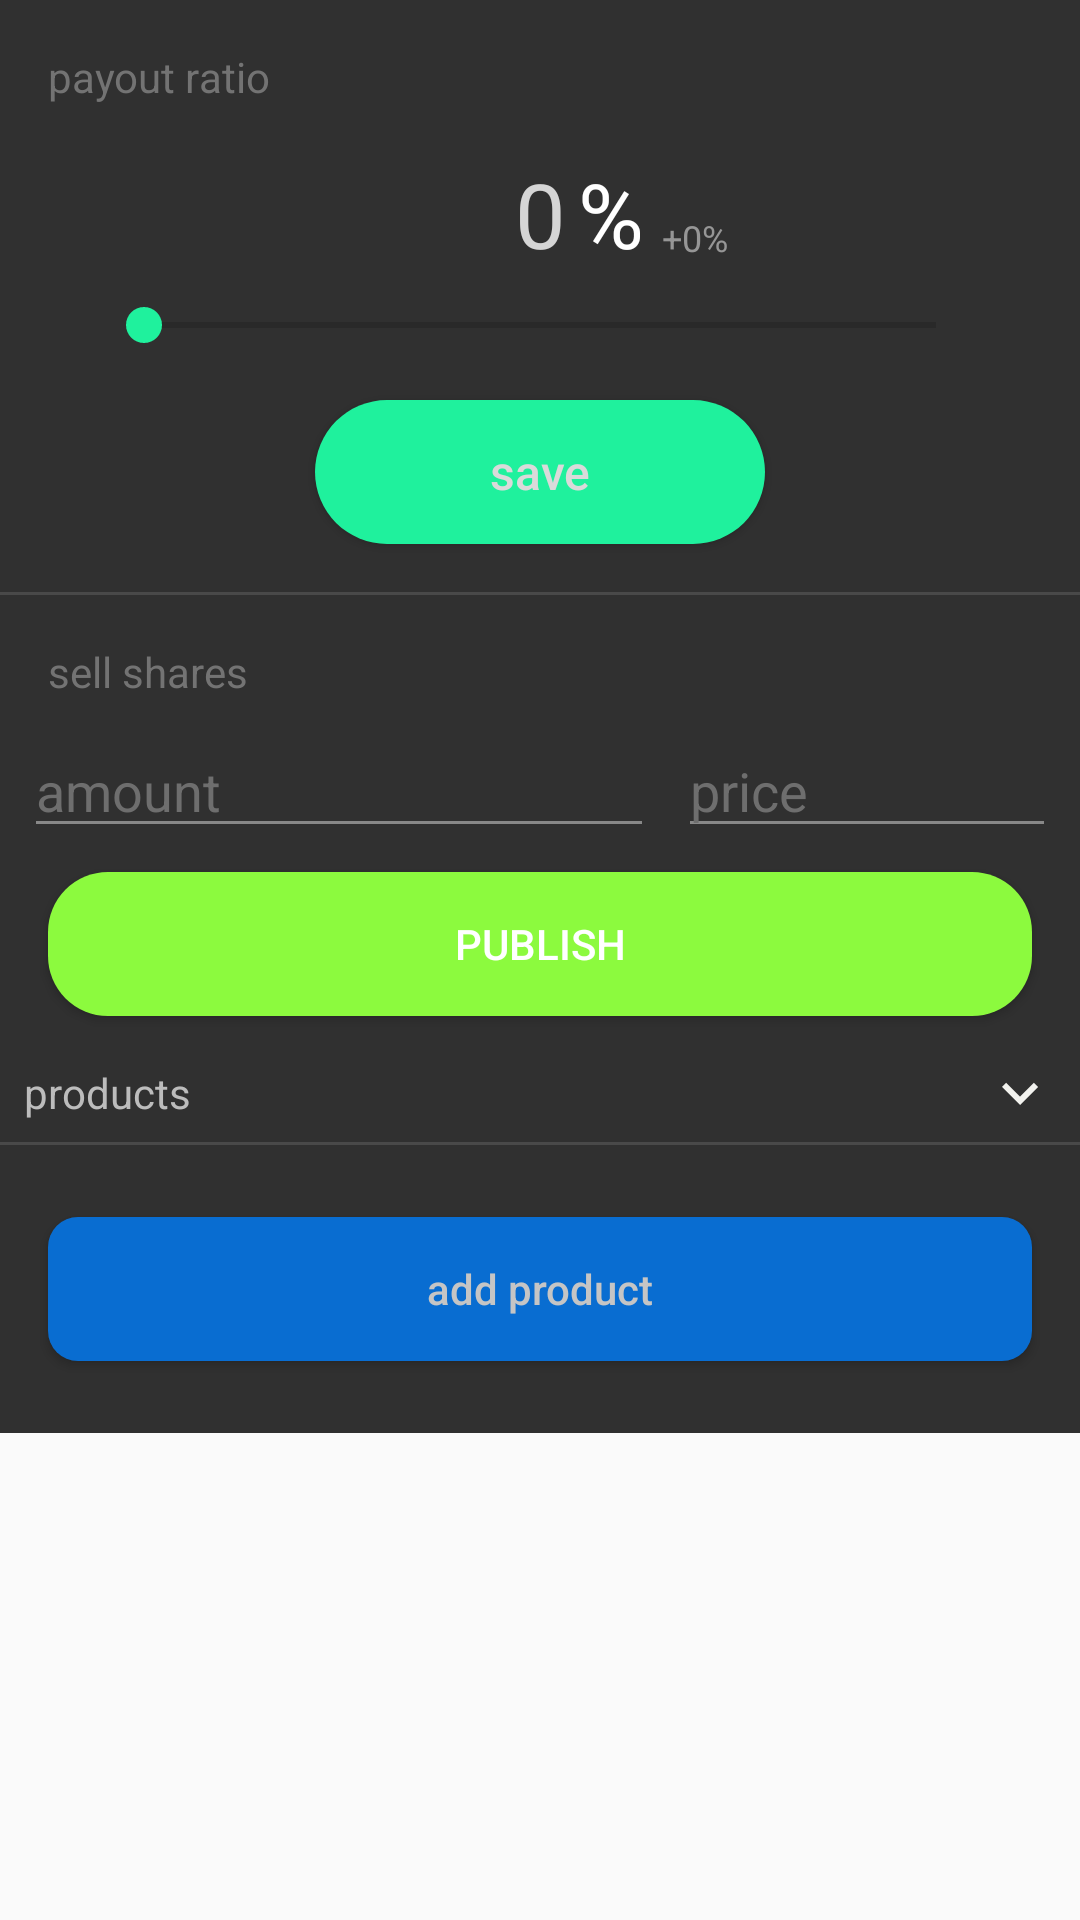

Named icons in this screenshot (1080 × 1920) and their centers, [x,y]:
keyboard arrow down: [1020,1094]
